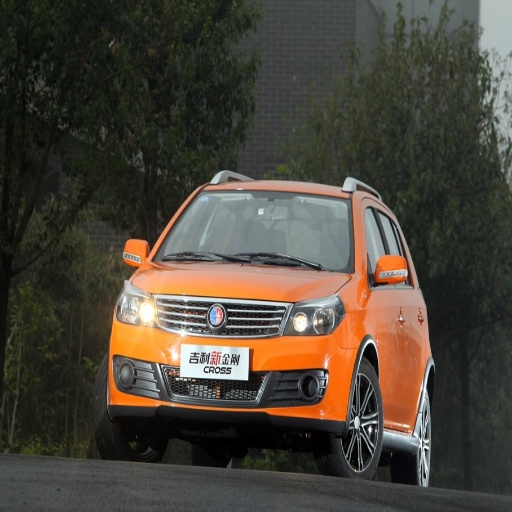front_bumper: (112, 295, 358, 422)
front_glass: (152, 189, 350, 272)
front_left_door: (361, 199, 408, 421)
front_right_light: (117, 286, 156, 325)
